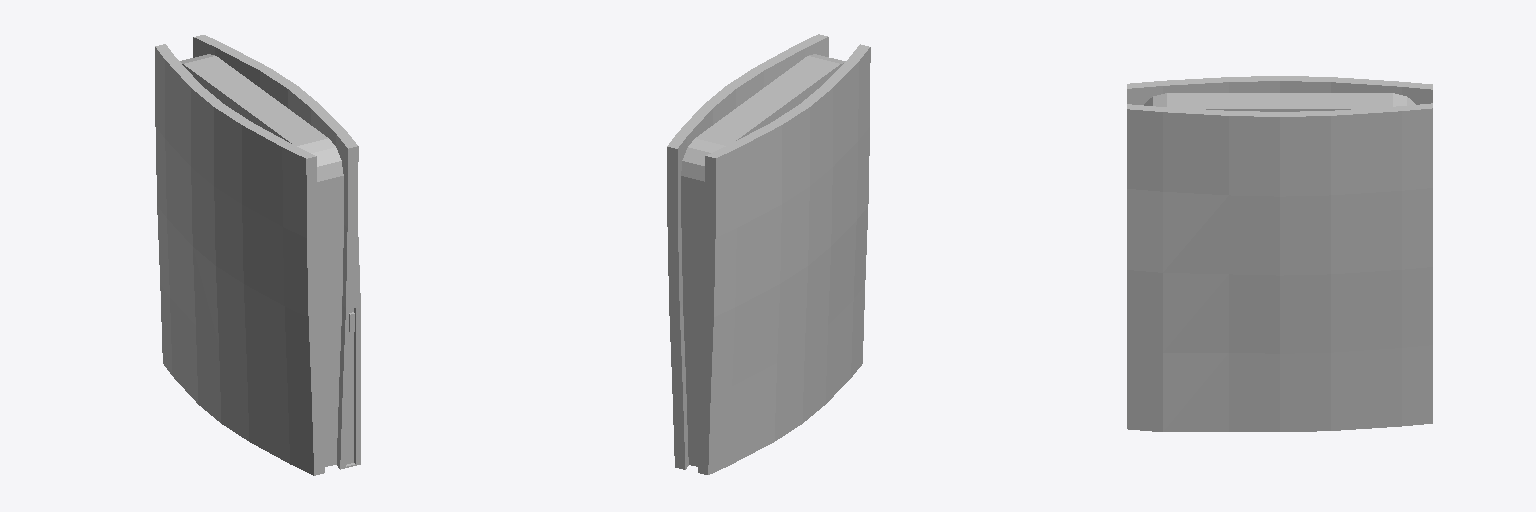
Rendered from Console_PolyStation_5.obj.
The picture shows the model from 3 angles: view 1: azimuth 30°, elevation 25°; view 2: azimuth 150°, elevation 25°; view 3: azimuth 270°, elevation 25°; orthographic projection.
Parts seen in each view (by area): view 1: Console_PolyStation_5; view 2: Console_PolyStation_5; view 3: Console_PolyStation_5.
Part boxes in pixels (x1,y1,x2,y2): Console_PolyStation_5: (155,35,360,475); Console_PolyStation_5: (667,34,870,474); Console_PolyStation_5: (1127,76,1432,431).
Size of the model in its own units: 0.1438 by 0.5182 by 0.4504.